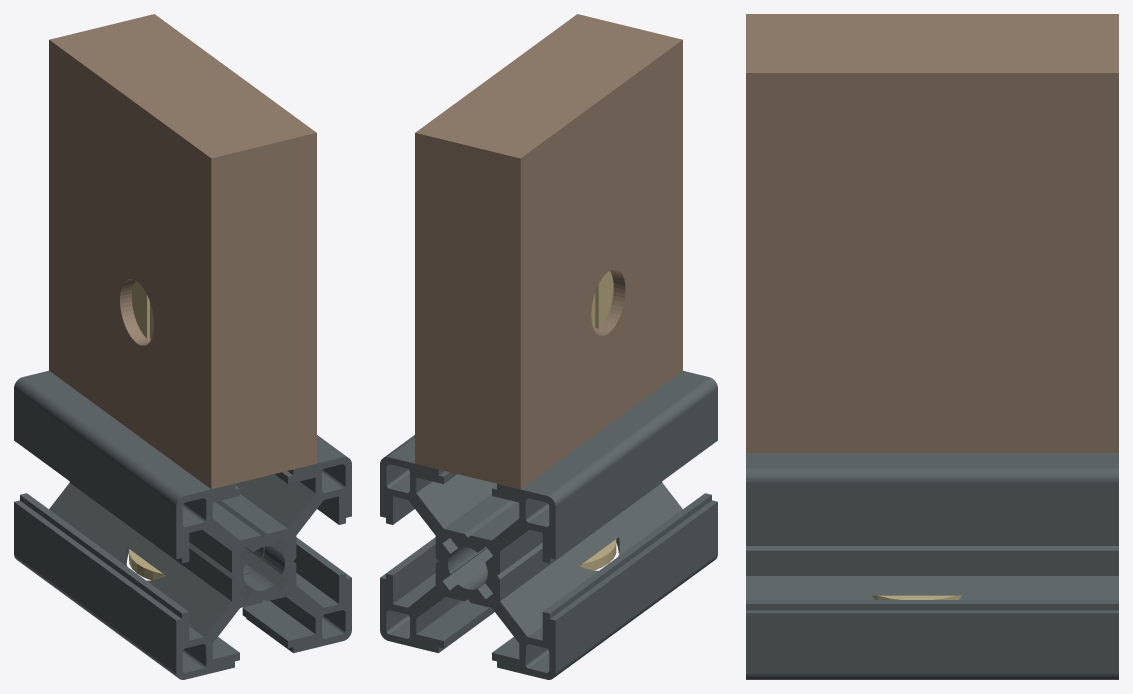
The model's file is mount-detail.glb.
3 renders of one model, left to right at view 1: azimuth 30°, elevation 25°; view 2: azimuth 150°, elevation 25°; view 3: azimuth 270°, elevation 25°, orthographic. The views are drawn at different scales.
Visible parts, largest first — view 1: Right-wall-18, Beam-body-side-966, Right-wall-cross-dowel-Bottom-97, Right-wall-washer-Bottom-97; view 2: Right-wall-18, Beam-body-side-966, Right-wall-cross-dowel-Bottom-97, Right-wall-washer-Bottom-97; view 3: Right-wall-18, Beam-body-side-966.
Boxes of the visible parts, x1,y1,x2,y2 form: Right-wall-18: (49,14,316,489); Beam-body-side-966: (14,370,351,679); Right-wall-cross-dowel-Bottom-97: (132,281,153,340); Right-wall-washer-Bottom-97: (129,549,165,580); Right-wall-18: (415,14,682,489); Beam-body-side-966: (380,370,717,679); Right-wall-cross-dowel-Bottom-97: (591,271,613,330); Right-wall-washer-Bottom-97: (580,539,616,570); Right-wall-18: (746,14,1118,452); Beam-body-side-966: (746,453,1118,679).
Bounding box in the file's own units: 0.03 × 0.084 × 0.048.
